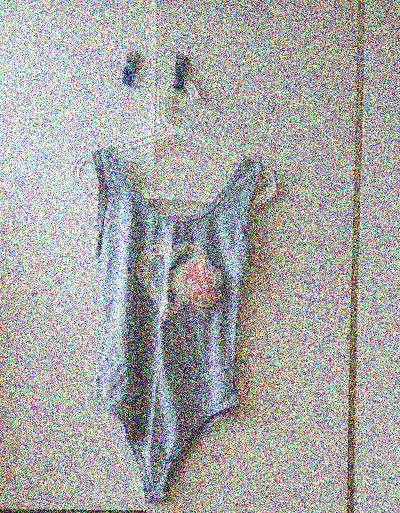Body: (66, 120, 263, 499)
